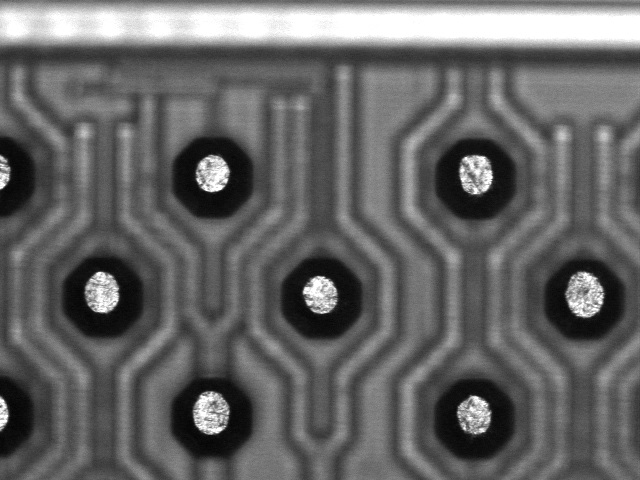over: (49, 248, 153, 343), (159, 130, 263, 225), (159, 367, 263, 462), (269, 250, 373, 345), (422, 131, 526, 226), (531, 251, 635, 346), (421, 369, 525, 464)
